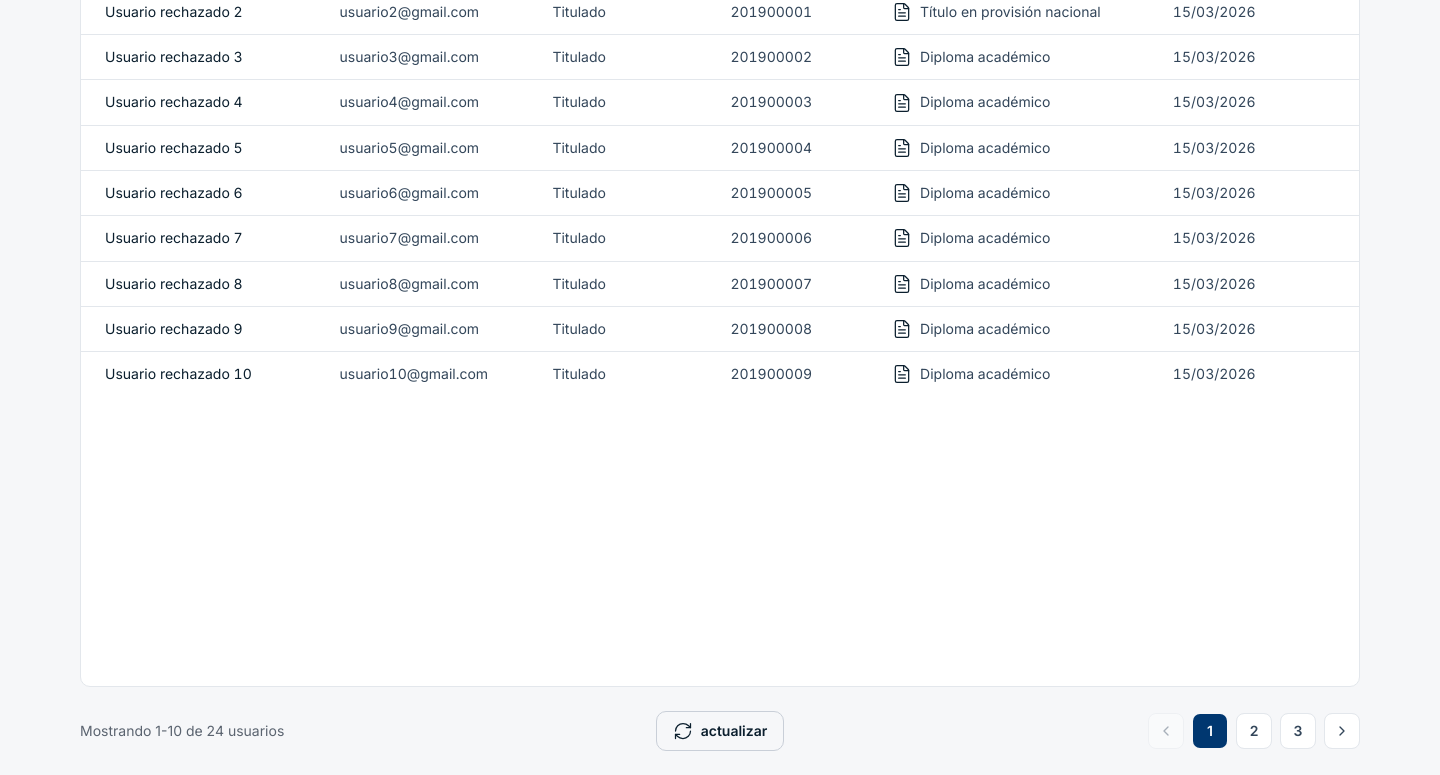
Scenario: RejectedUsersReportView › busca por correo después de dejar de escribir y vuelve a la primera página
The width and height of the screenshot is (1440, 775).
(page scrolled)
Click the button named "Página 2" at (1254, 731), box [1236,713,1272,749]
(page scrolled)
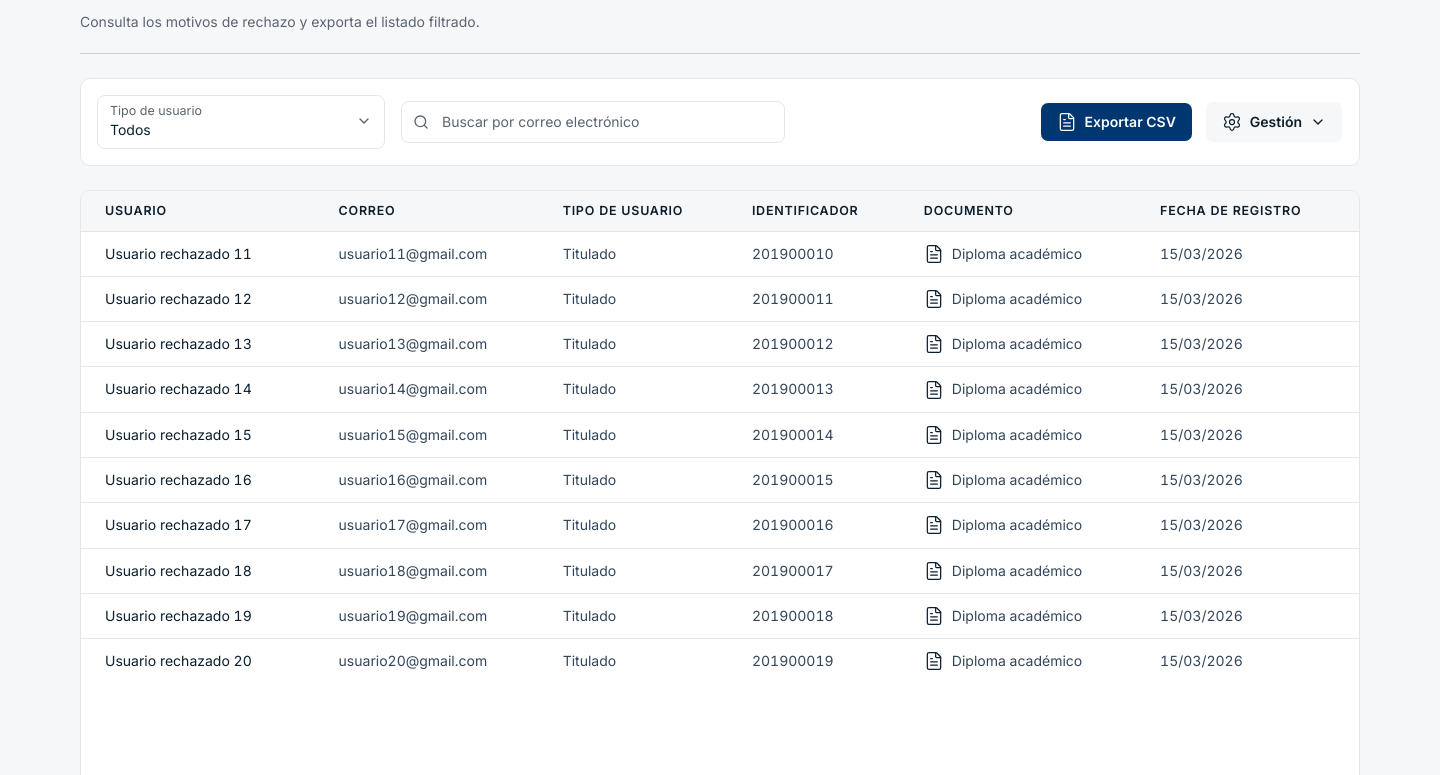
Type " juan.perez@ " into the field with placeholder "Buscar por correo electrónico" at (593, 122), box [401,101,785,143]
Wait 300 ms
(page scrolled)
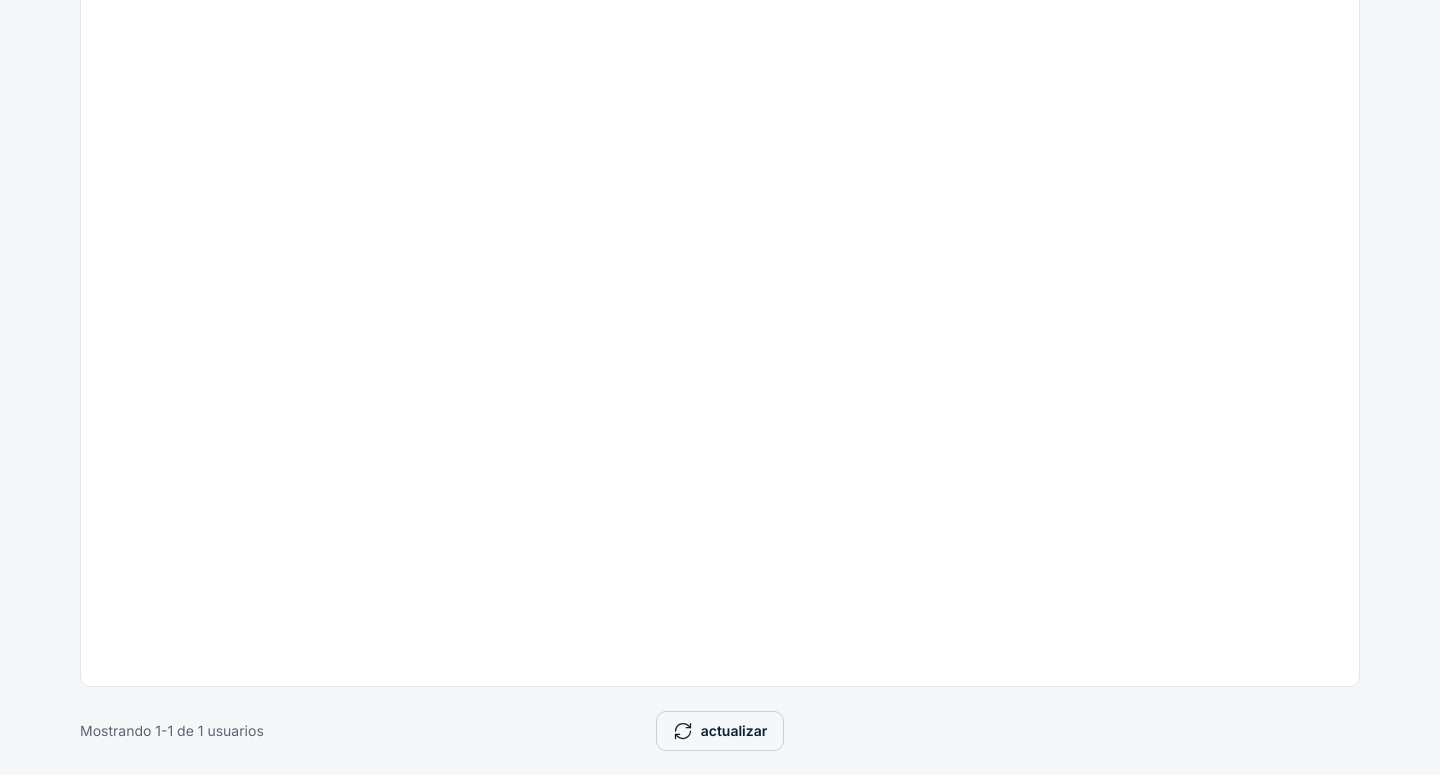
Expected: the text "Mostrando 1-1 de 1 usuarios" is shown, [80,722,264,739]
